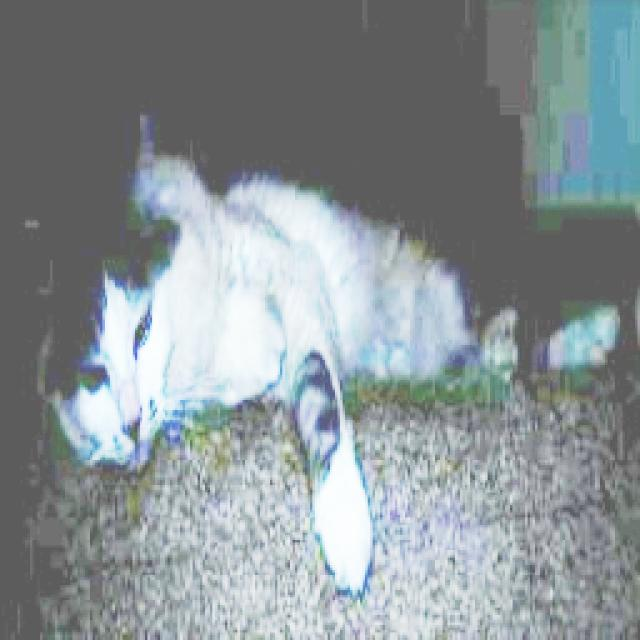cat: (41, 132, 634, 585)
